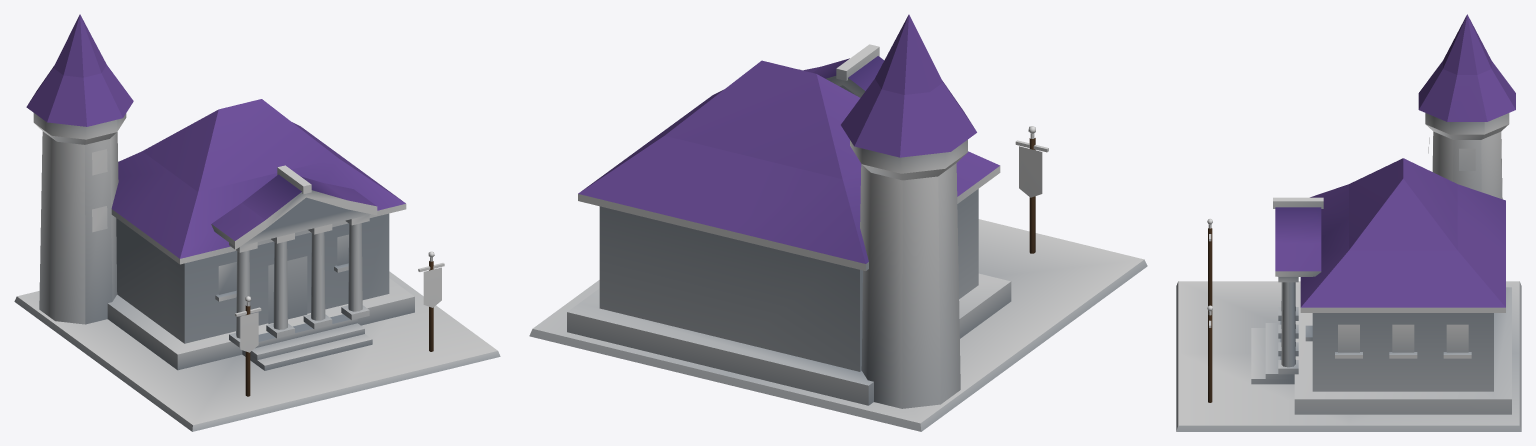
File: academy_t3.glb
3 views of the same model, side by side, from view 1: azimuth 30°, elevation 25°; view 2: azimuth 150°, elevation 25°; view 3: azimuth 270°, elevation 25° (orthographic). The views are drawn at different scales.
Visible parts, largest first — view 1: academy_t3; view 2: academy_t3; view 3: academy_t3.
Boxes of the visible parts, x1,y1,x2,y2 form: academy_t3: [14, 14, 500, 431]; academy_t3: [529, 14, 1147, 431]; academy_t3: [1176, 14, 1521, 431].
Size of the model in its own units: 2.91 by 2.65 by 2.86.
